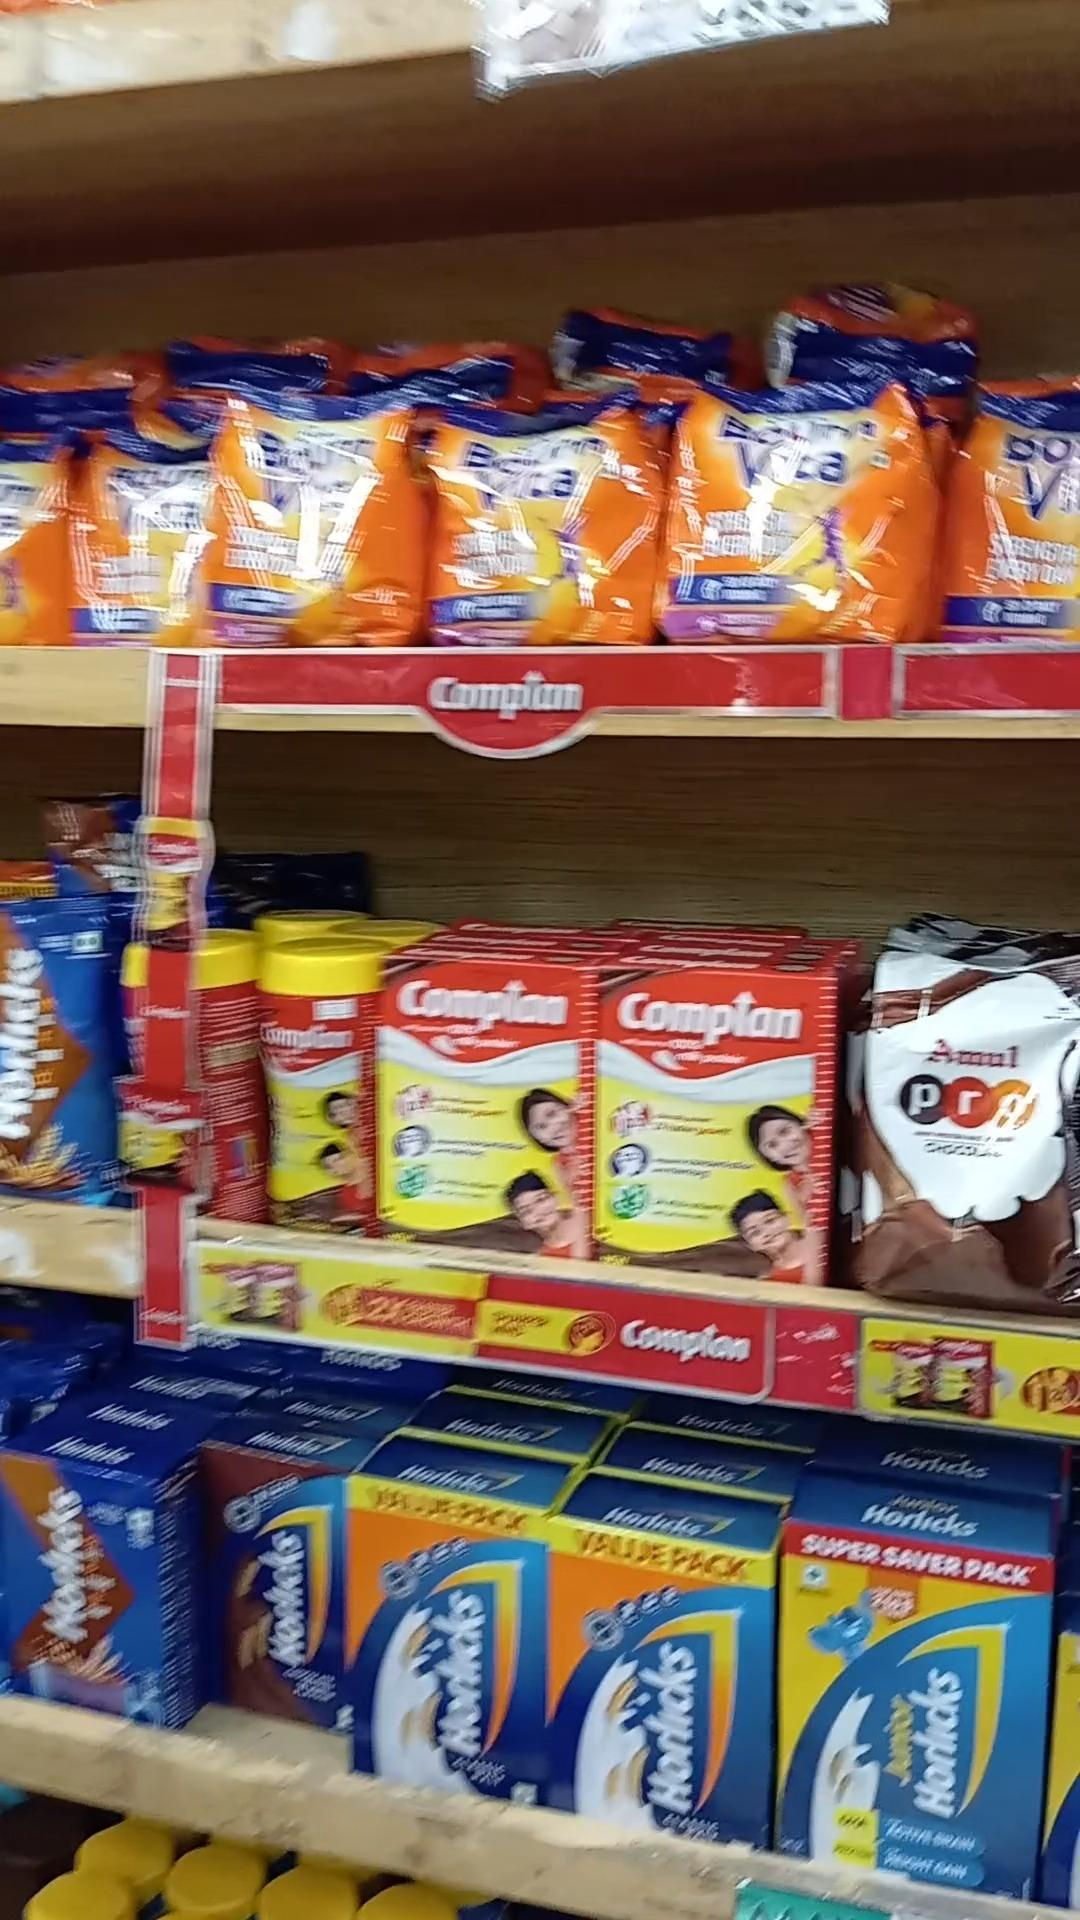BOURN_VITA_500_G_POUCH: (653, 359, 906, 638), (443, 377, 642, 645), (208, 397, 397, 640), (940, 373, 1080, 637)
COMPLAN_CHOCOLATE_500_GMS_JAR: (260, 949, 375, 1233)
COMPLAN_CHOCOLATE_500_GMS_PACK: (597, 989, 839, 1266), (388, 973, 589, 1255)
HORLICK_CLASSIC_MALT_500_G_PACK: (550, 1515, 753, 1821), (342, 1478, 541, 1774)
